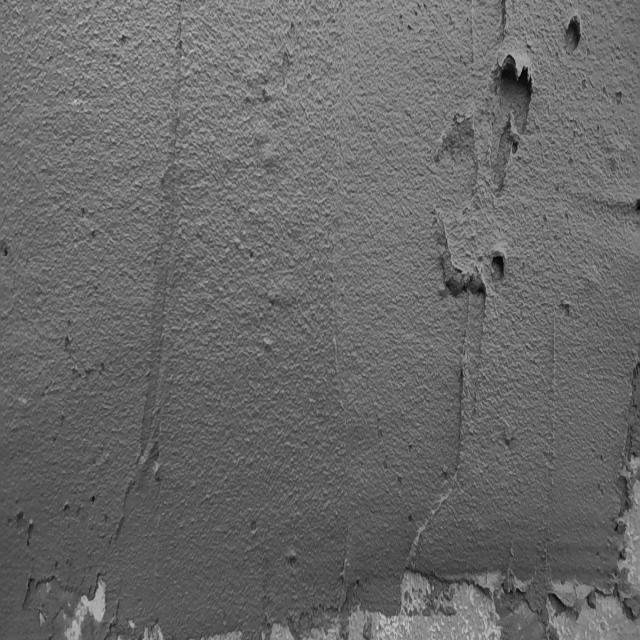trowels marks: (136, 16, 180, 486), (444, 344, 472, 496)
